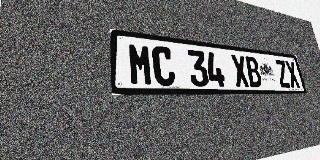3: (187, 49, 209, 87)
4: (204, 51, 226, 87)
B: (244, 56, 263, 87)
C: (151, 45, 176, 86)
M: (127, 43, 154, 86)
X: (230, 54, 250, 87), (284, 61, 301, 88)
Z: (274, 60, 291, 88)
